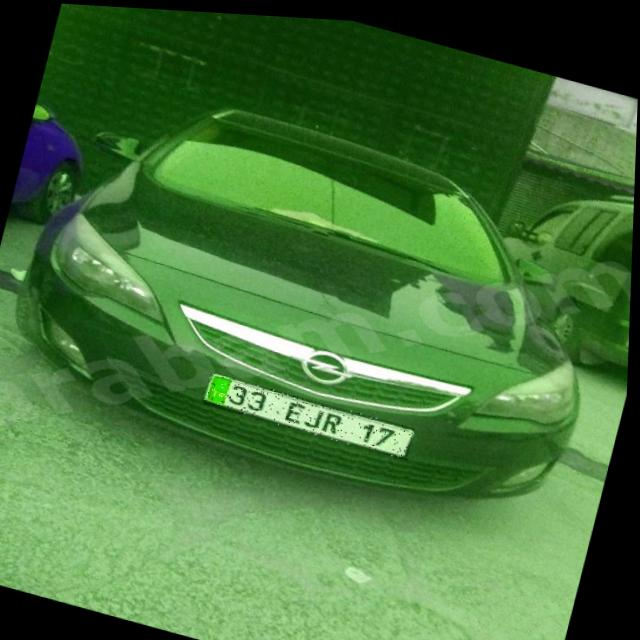license_plate: (204, 369, 419, 455)
